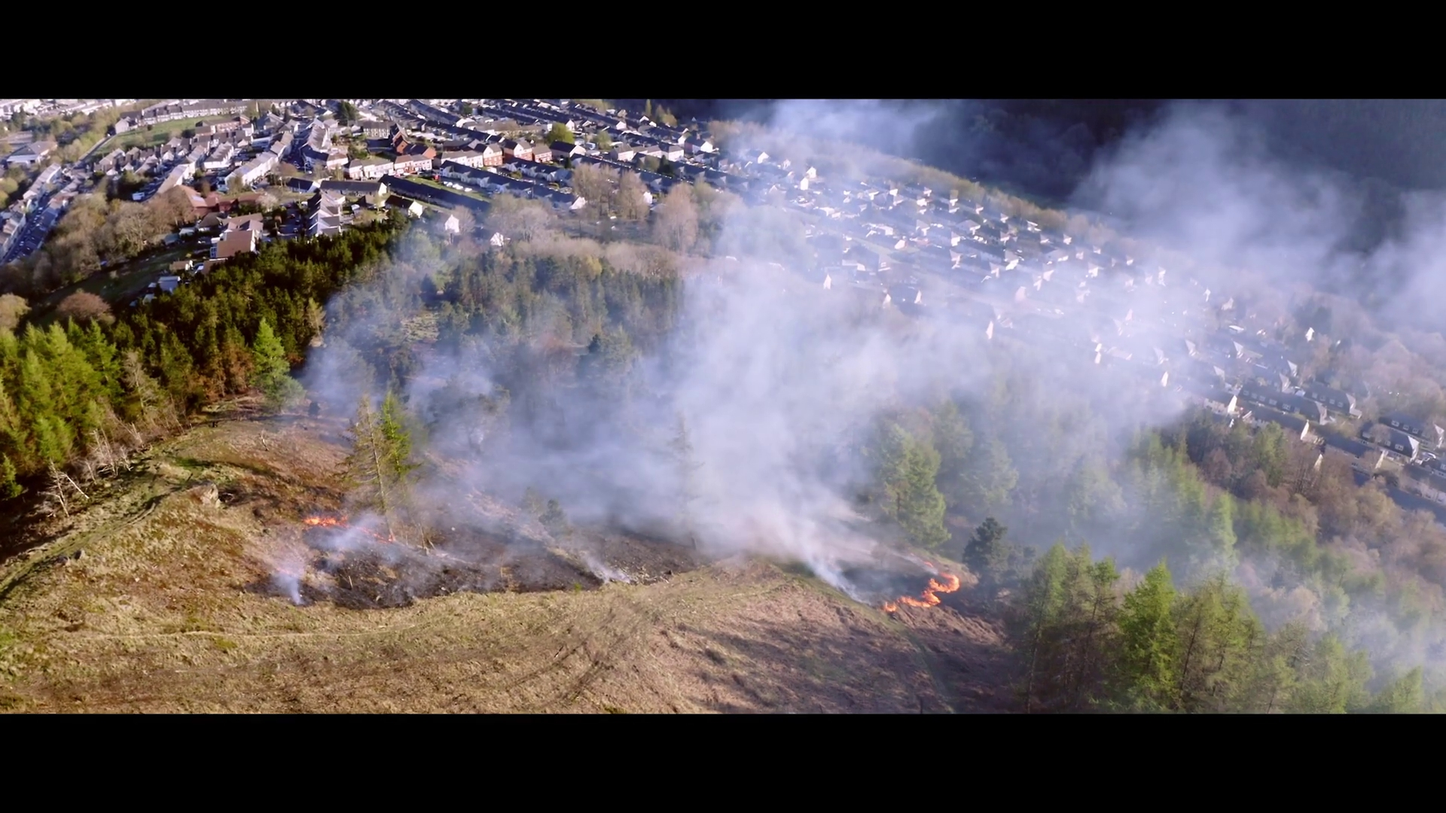forest_fire: (883, 574, 959, 612), (303, 516, 395, 542)
